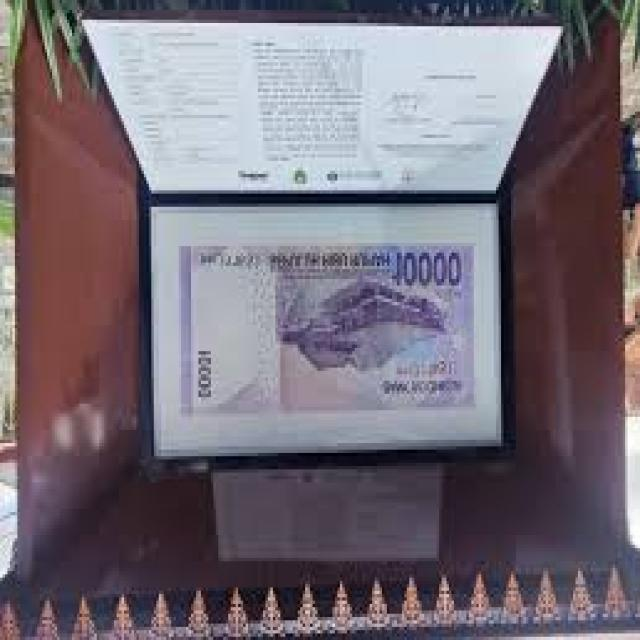sepuluh ribu rupiah: (179, 246, 474, 419)
